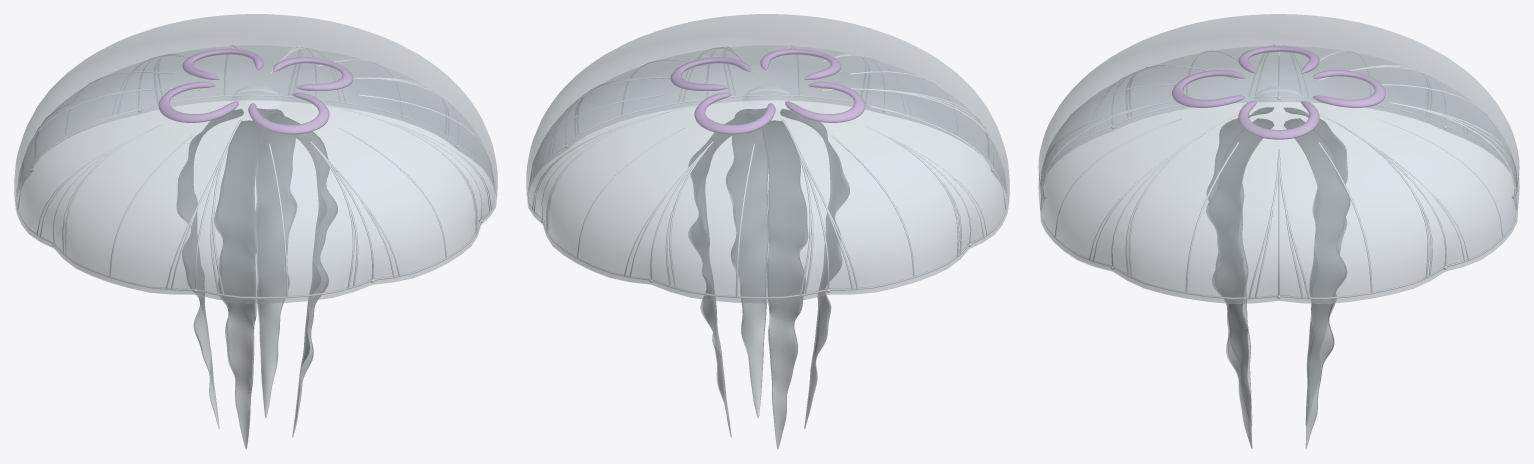
The model's file is moon_jelly.glb.
3 views of the same model, side by side, from view 1: azimuth 30°, elevation 25°; view 2: azimuth 150°, elevation 25°; view 3: azimuth 270°, elevation 25° (orthographic).
Visible parts, largest first — view 1: bell, canal, arm_1, arm_3, arm_0, arm_2, gonad_1, gonad_2, gonad_0, gonad_3; view 2: bell, canal, arm_2, arm_0, arm_3, arm_1, gonad_3, gonad_2, gonad_0, gonad_1; view 3: bell, canal, arm_0, arm_3, arm_2, arm_1, gonad_0, gonad_1, gonad_3, gonad_2.
Boxes of the visible parts, <box> form: bell: <box>14,14,497,303</box>; canal: <box>15,45,496,298</box>; arm_1: <box>214,120,261,449</box>; arm_3: <box>255,108,296,418</box>; arm_0: <box>268,113,337,437</box>; arm_2: <box>177,109,243,429</box>; gonad_1: <box>248,92,329,134</box>; gonad_2: <box>158,81,238,122</box>; gonad_0: <box>273,57,353,90</box>; gonad_3: <box>182,48,263,79</box>; bell: <box>526,14,1009,303</box>; canal: <box>527,45,1008,298</box>; arm_2: <box>762,120,807,449</box>; arm_0: <box>726,108,768,418</box>; arm_3: <box>688,113,755,437</box>; arm_1: <box>780,109,849,429</box>; gonad_3: <box>694,92,775,134</box>; gonad_2: <box>785,81,865,122</box>; gonad_0: <box>670,57,750,90</box>; gonad_1: <box>760,48,841,79</box>; bell: <box>1038,14,1519,303</box>; canal: <box>1040,45,1517,299</box>; arm_0: <box>1206,118,1273,449</box>; arm_3: <box>1284,118,1350,449</box>; arm_2: <box>1284,108,1347,425</box>; arm_1: <box>1206,107,1273,426</box>; gonad_0: <box>1238,101,1319,139</box>; gonad_1: <box>1172,70,1244,107</box>; gonad_3: <box>1313,70,1385,107</box>; gonad_2: <box>1238,46,1319,73</box>.
Bounding box in the file's own units: 0.2945 × 0.2595 × 0.2945.
